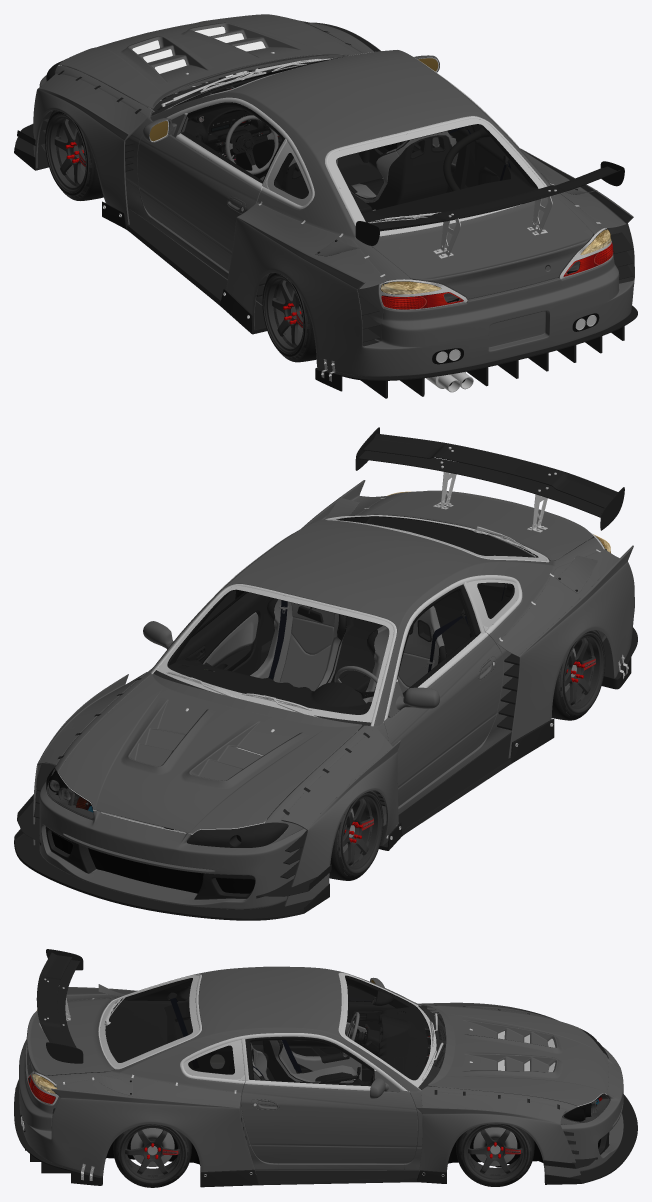
The model's file is nissan_silvia_s15.glb.
The picture shows the model from 3 angles, top to bottom: view 1: azimuth 30°, elevation 25°; view 2: azimuth 150°, elevation 25°; view 3: azimuth 270°, elevation 25°; orthographic projection. The views are drawn at different scales.
Visible parts, largest first — view 1: Object_36, Object_40, Object_42, Object_16, Object_37, Object_35, Object_38, Object_26, Object_51, Object_27, Object_53, Object_56 (+14 smaller); view 2: Object_36, Object_35, Object_42, Object_16, Object_39, Object_40, Object_38, Object_53, Object_12, Object_37, Object_26, Object_27 (+12 smaller); view 3: Object_36, Object_42, Object_40, Object_16, Object_35, Object_38, Object_26, Object_37, Object_53, Object_51, Object_27, Object_39 (+14 smaller).
Part boxes in pixels (box(x1,y1,x2,y2)): Object_36: box(55, 16, 603, 341); Object_40: box(226, 148, 634, 376); Object_42: box(173, 57, 606, 302); Object_16: box(179, 73, 592, 309); Object_37: box(152, 57, 593, 346); Object_35: box(58, 14, 357, 112); Object_38: box(33, 20, 381, 224); Object_26: box(58, 50, 612, 311); Object_51: box(102, 201, 633, 342); Object_27: box(167, 75, 544, 388); Object_53: box(256, 161, 624, 296); Object_56: box(45, 113, 304, 354); Object_36: box(54, 492, 603, 836); Object_35: box(58, 673, 362, 833); Object_42: box(46, 516, 606, 820); Object_16: box(167, 517, 593, 733); Object_39: box(39, 779, 306, 909); Object_40: box(301, 480, 634, 758); Object_38: box(33, 672, 400, 906); Object_53: box(355, 427, 624, 730); Object_12: box(203, 599, 443, 702); Object_37: box(59, 490, 606, 819); Object_26: box(58, 492, 604, 834); Object_27: box(157, 515, 546, 722); Object_36: box(45, 966, 577, 1170); Object_42: box(28, 975, 610, 1122); Object_40: box(19, 987, 256, 1176); Object_16: box(34, 976, 430, 1085); Object_35: box(427, 1005, 608, 1105); Object_38: box(417, 1002, 580, 1182); Object_26: box(28, 972, 606, 1106); Object_37: box(26, 999, 439, 1075); Object_53: box(36, 949, 248, 1146); Object_51: box(53, 1108, 446, 1187); Object_27: box(99, 973, 436, 1087); Object_39: box(560, 1046, 623, 1171).
Size of the model in its own units: 2.02 by 1.14 by 4.59.
Materials: 58 (31 with a texture image).
